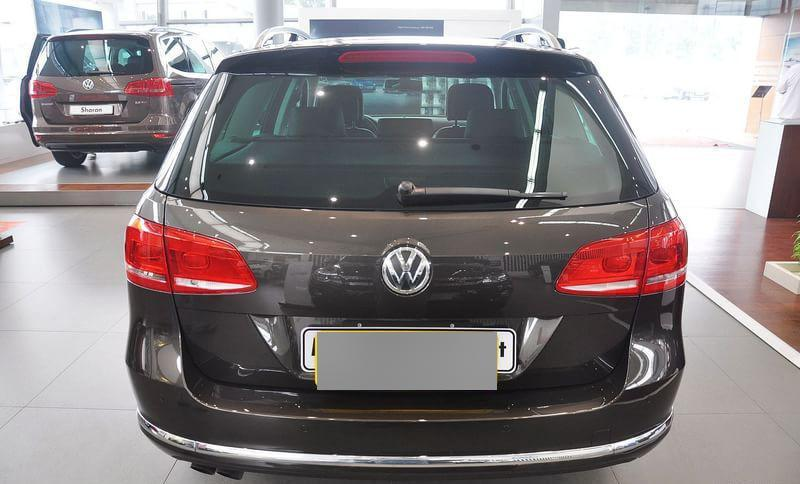Wagon: (121, 24, 688, 483)
